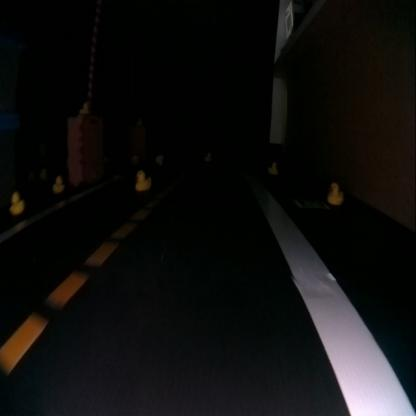Duckie: (8, 192, 26, 214), (328, 181, 342, 205), (134, 169, 150, 190), (52, 176, 64, 192), (79, 102, 89, 114), (268, 162, 277, 174), (154, 153, 162, 164), (136, 117, 142, 125)
QR code: (292, 197, 328, 208)
